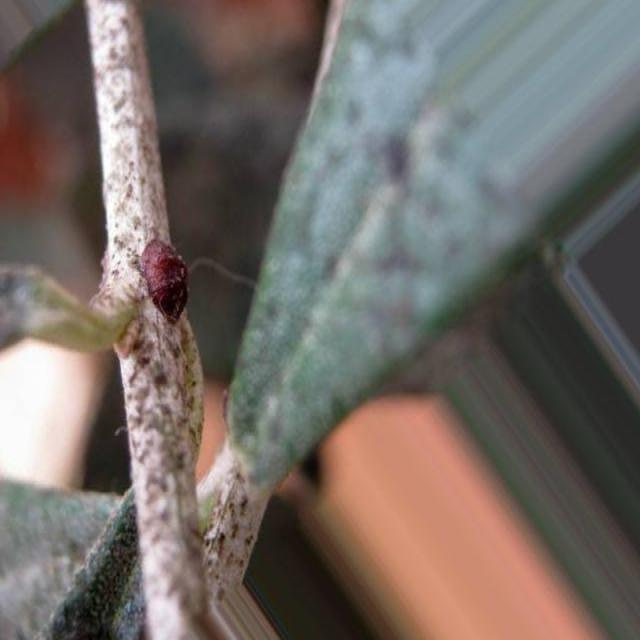BlackScale: (141, 238, 188, 322)
